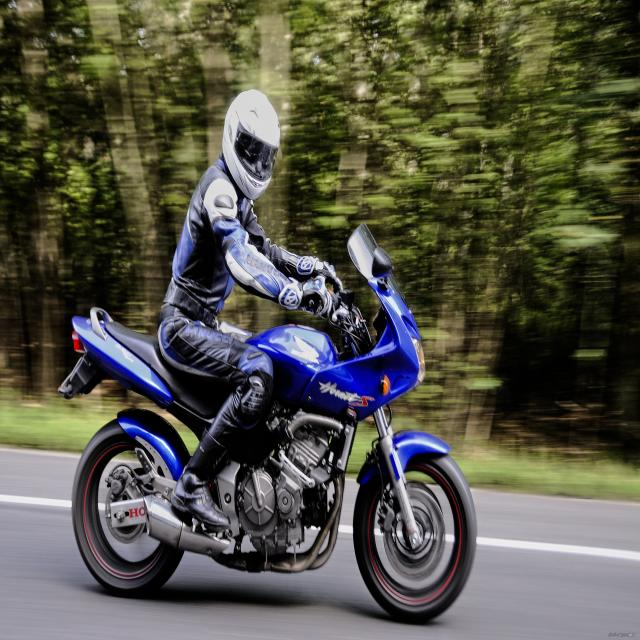helmet: (220, 85, 282, 205)
